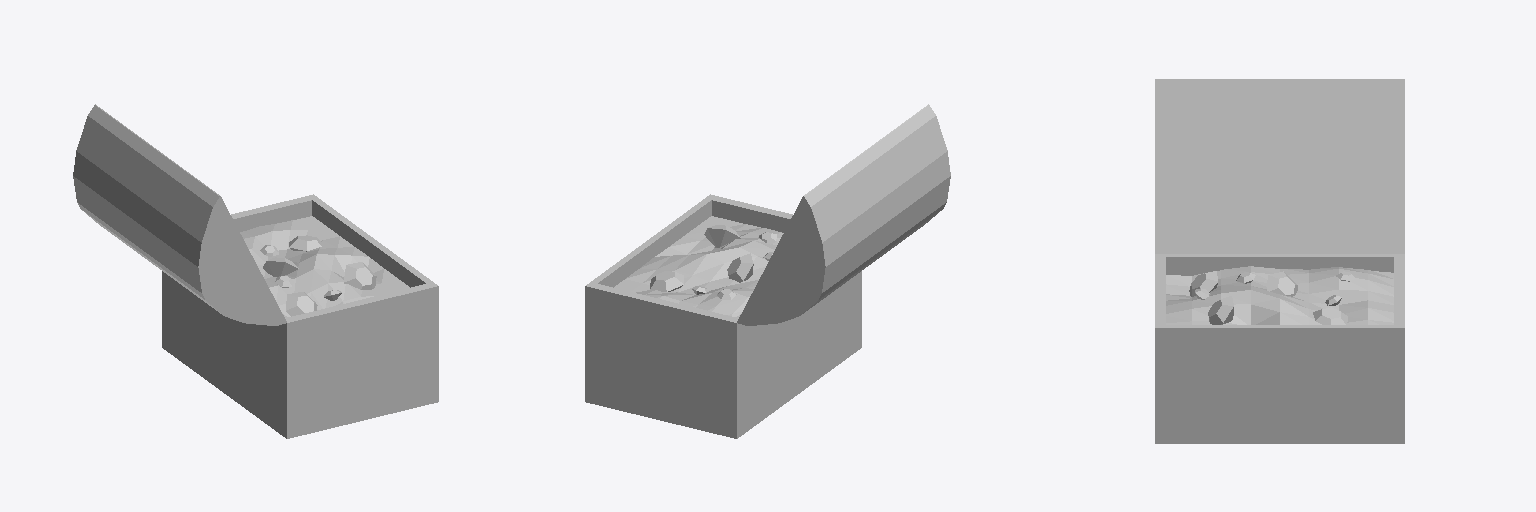
The model's file is TreasureChest.obj.
3 views of the same model, side by side, from view 1: azimuth 30°, elevation 25°; view 2: azimuth 150°, elevation 25°; view 3: azimuth 270°, elevation 25° (orthographic).
Parts seen in each view (by area): view 1: Cube.001; view 2: Cube.001; view 3: Cube.001.
Boxes of the visible parts, <box> form: Cube.001: <box>73,104,438,438</box>; Cube.001: <box>585,104,950,438</box>; Cube.001: <box>1155,79,1404,443</box>.
Size of the model in its own units: 0.8866 by 0.9133 by 0.8.